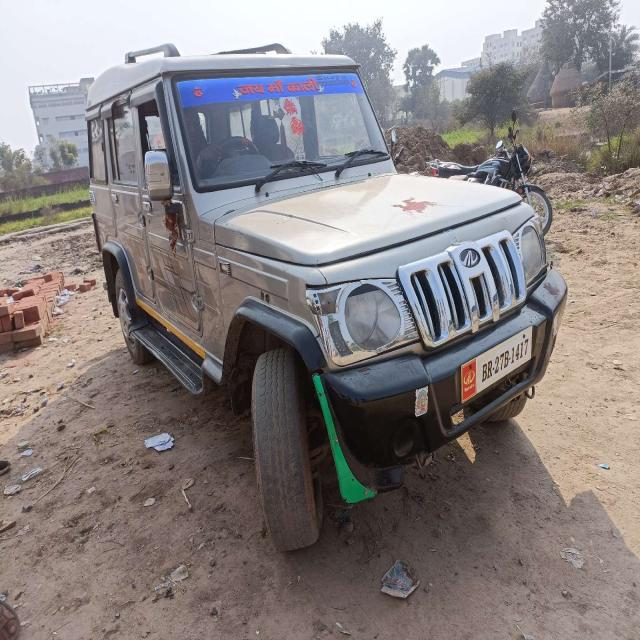light_vehicle: (85, 58, 568, 445)
